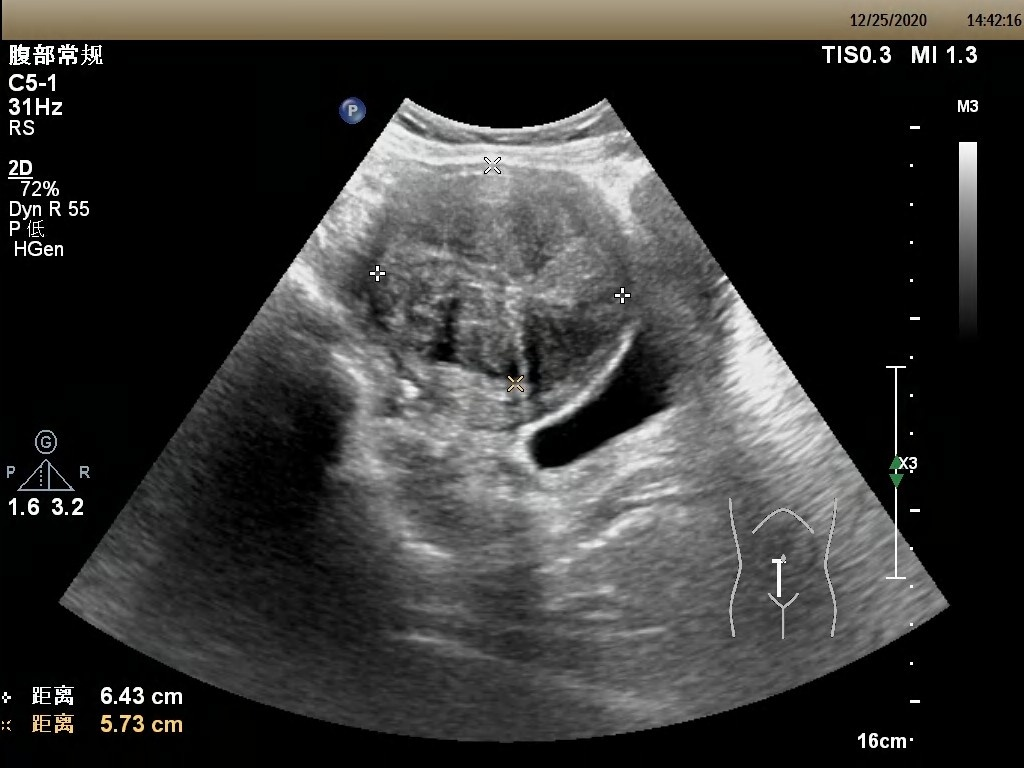肌瘤: (376, 162, 631, 397)
